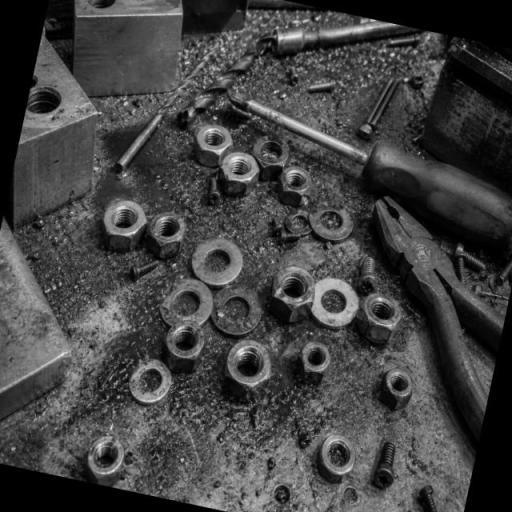Bolt: (356, 74, 405, 139), (116, 112, 162, 175), (451, 242, 491, 277), (371, 438, 395, 490), (129, 256, 168, 282), (357, 252, 378, 292), (306, 78, 338, 92)
Nut: (223, 339, 271, 398), (357, 292, 402, 344), (102, 198, 146, 251), (270, 267, 314, 319), (165, 322, 205, 374), (218, 150, 261, 194), (317, 434, 356, 480), (193, 123, 234, 166), (86, 435, 125, 479), (149, 213, 187, 257), (379, 368, 414, 409), (299, 340, 333, 381), (279, 163, 310, 204), (253, 136, 285, 170)
Washer: (211, 285, 264, 336), (310, 276, 360, 328), (160, 281, 213, 330), (189, 238, 244, 285), (128, 359, 173, 405), (308, 206, 354, 242), (279, 208, 313, 242)
